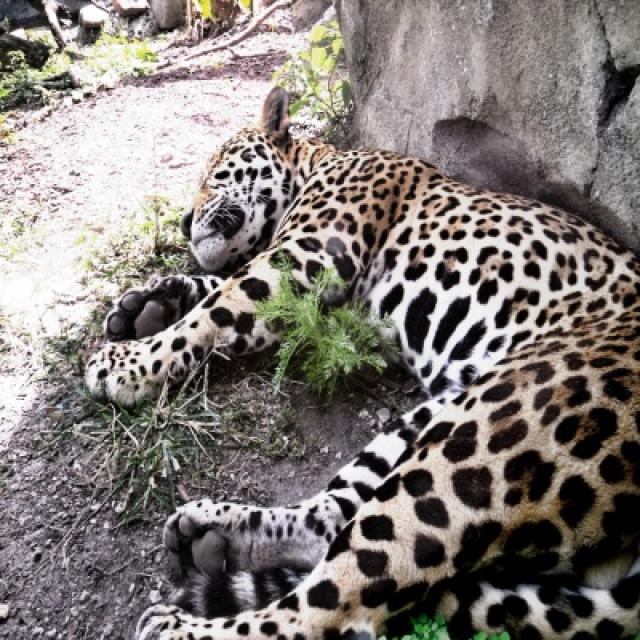Jaguar: (85, 88, 638, 413)
